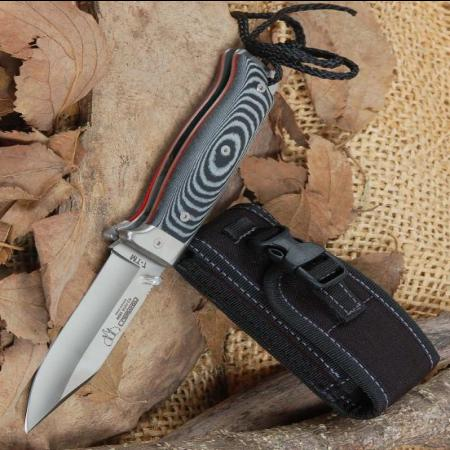long weapon: (16, 212, 194, 438)
